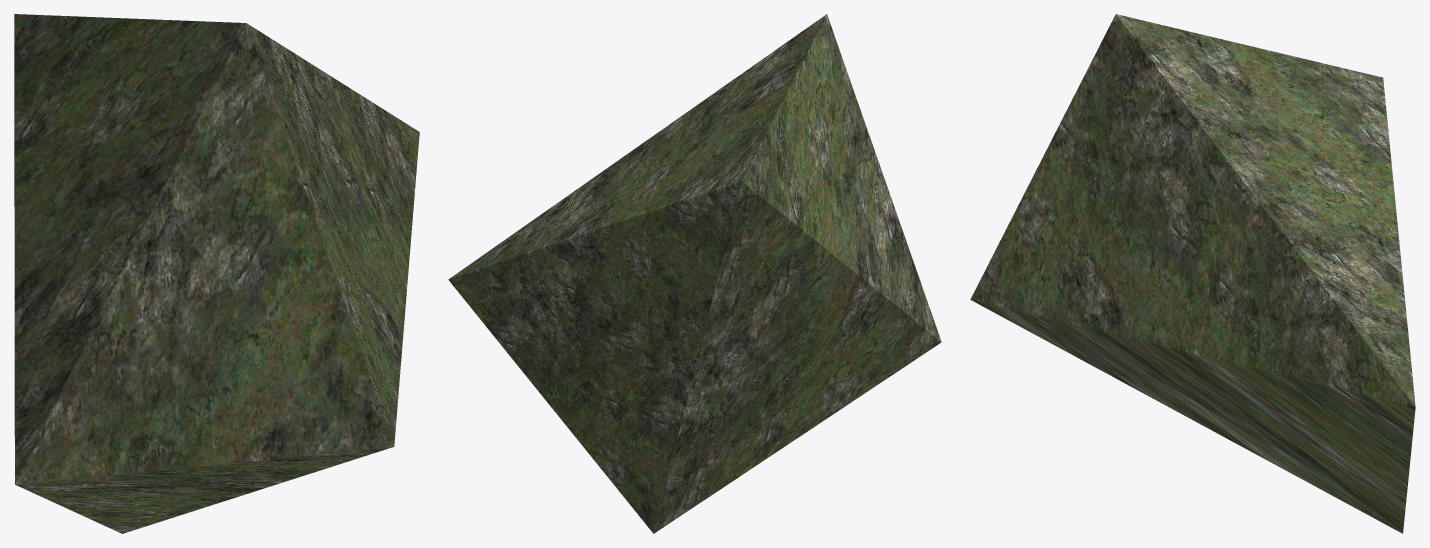
Rendered from mtns_rock_moss_a3_l3.fbx.
3 renders of one model, left to right at view 1: azimuth 30°, elevation 25°; view 2: azimuth 150°, elevation 25°; view 3: azimuth 270°, elevation 25°, orthographic. The views are drawn at different scales.
Parts seen in each view (by area): view 1: mesh_node; view 2: mesh_node; view 3: mesh_node.
Boxes of the visible parts, box(x1,y1,x2,y2) form: mesh_node: box(14, 14, 419, 533); mesh_node: box(448, 14, 941, 533); mesh_node: box(970, 14, 1415, 533).
Bounding box in the file's own units: 1.43 × 1.58 × 1.29.
